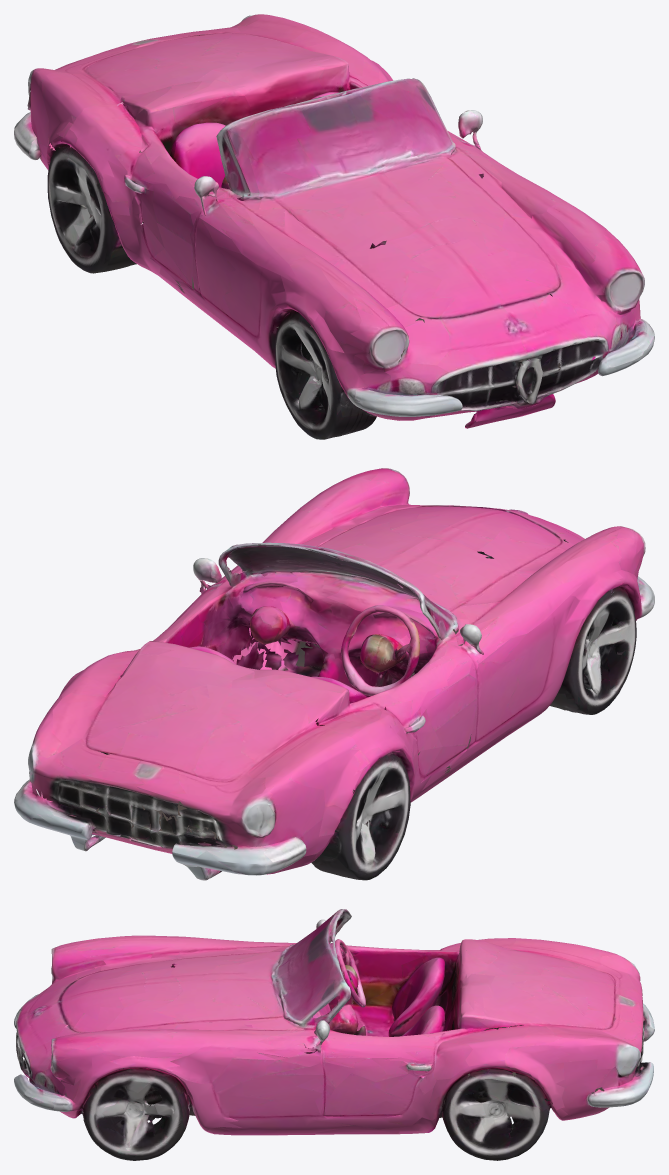
Rendered from getkong-mcar5.glb.
3 views of the same model, one above another, from view 1: azimuth 30°, elevation 25°; view 2: azimuth 150°, elevation 25°; view 3: azimuth 270°, elevation 25° (orthographic). The views are drawn at different scales.
Parts seen in each view (by area): view 1: output_unwrapped; view 2: output_unwrapped; view 3: output_unwrapped.
Part boxes in pixels (x1,y1,x2,y2): output_unwrapped: (14,14,654,439); output_unwrapped: (14,468,654,880); output_unwrapped: (14,909,654,1160).
Size of the model in its own units: 0.8825 by 0.5799 by 1.99.
Materials: 1 (1 with a texture image).
